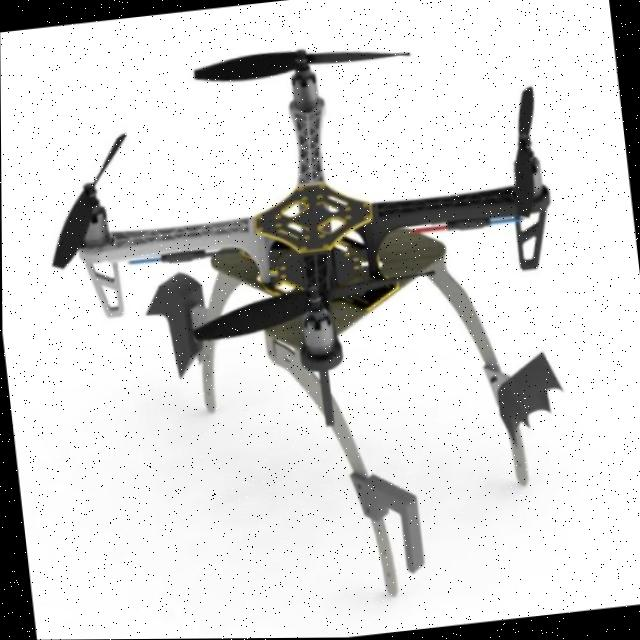drones: (11, 0, 615, 640)
